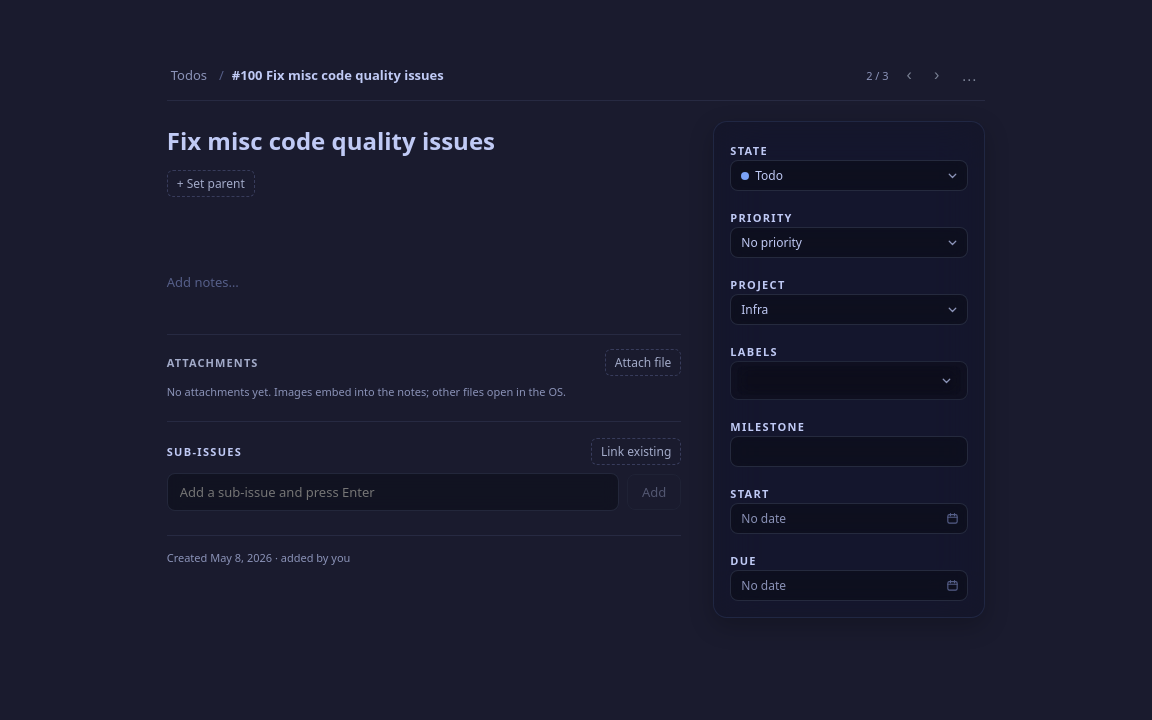
Test: TodoDetailPage surfaces write failures (BLOCKER 2) › shows a message when the main process rejects a rail write (start after due)
expect the text box named "Title" is shown: met, box [167,121,681,160]
Click the button with aria-label "Start date" at coordinates (849, 518), box [730,503,968,534]
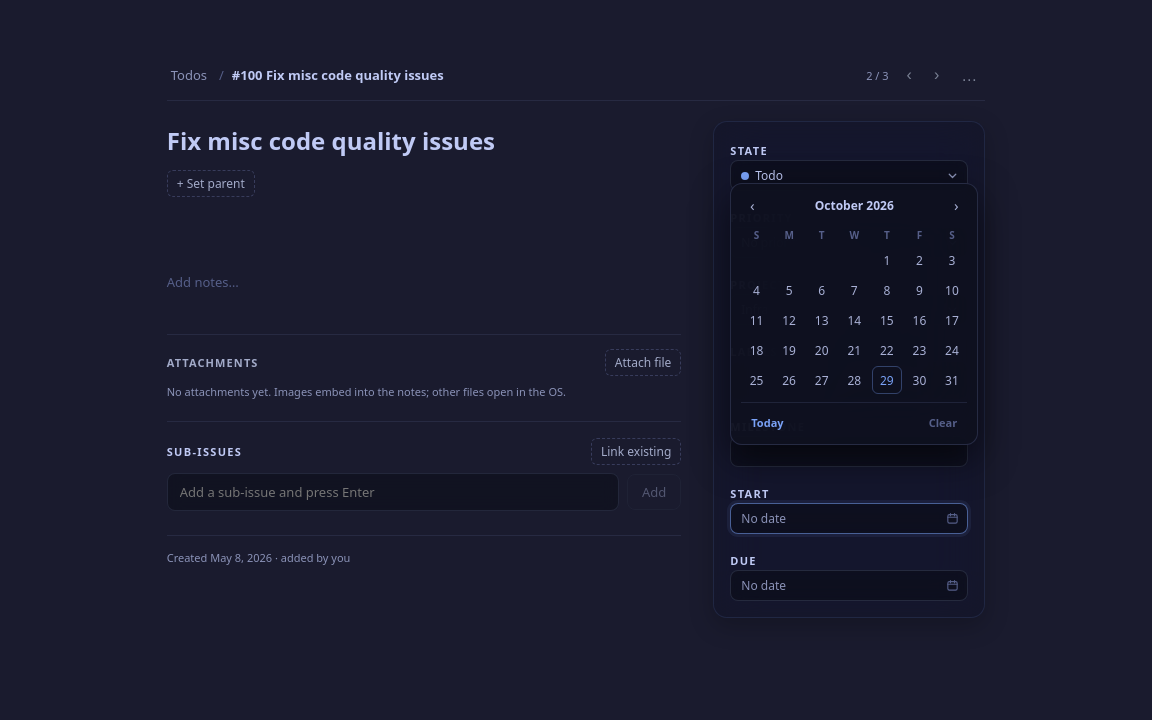
Click the button "15" at coordinates (887, 320), box [872,306,902,334]
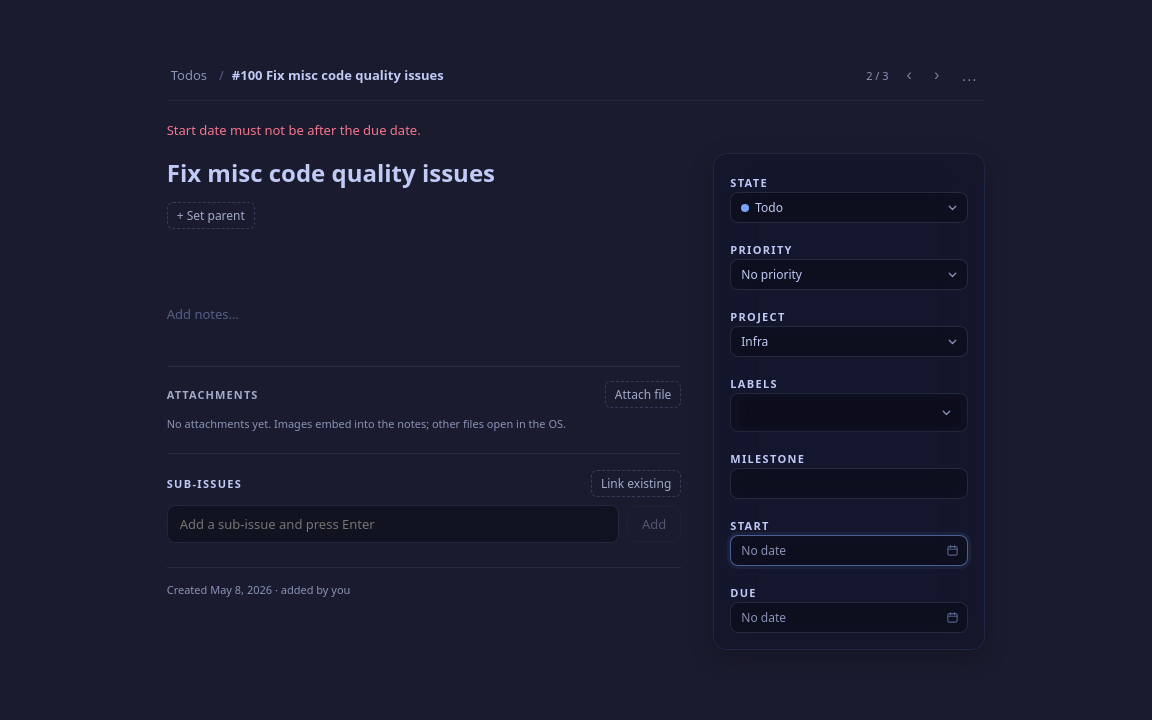
expect the text "Start date must not be after the due date." is shown: met, box [167,121,421,139]
